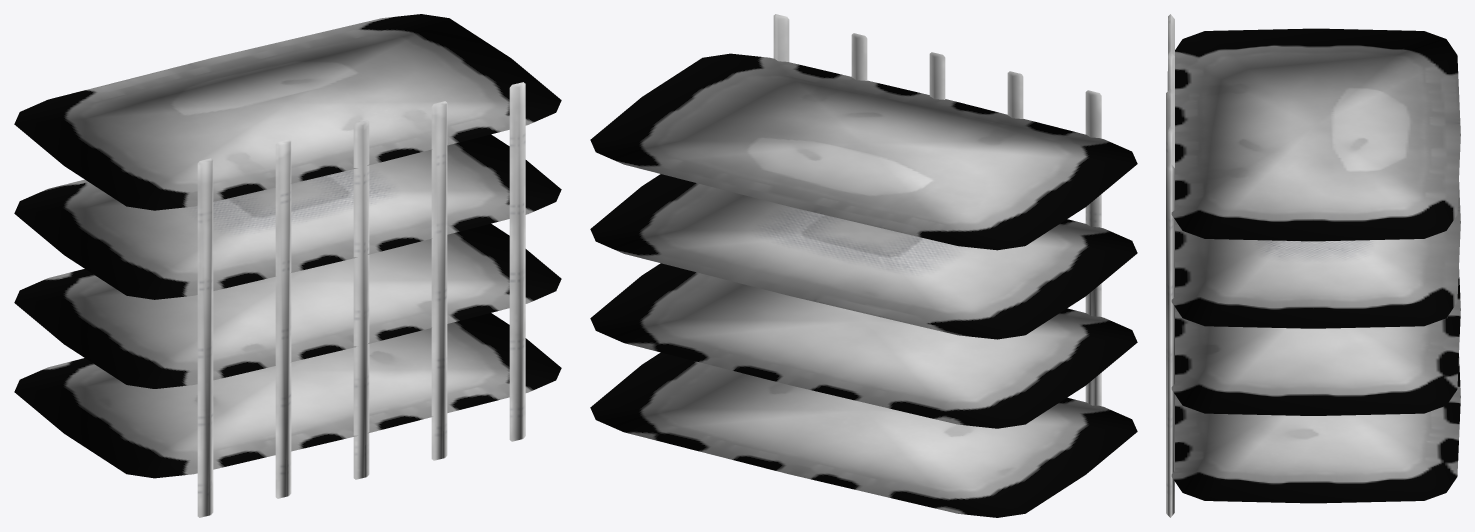
File: UpperTorso_C2.fbx
The picture shows the model from 3 angles, left to right: view 1: azimuth 30°, elevation 25°; view 2: azimuth 150°, elevation 25°; view 3: azimuth 270°, elevation 25°; orthographic projection. The views are drawn at different scales.
Visible parts, largest first — view 1: Civ_CamisaCuadros_UpperTorso_C2; view 2: Civ_CamisaCuadros_UpperTorso_C2; view 3: Civ_CamisaCuadros_UpperTorso_C2.
Part boxes in pixels (bbox=[...]): Civ_CamisaCuadros_UpperTorso_C2: bbox=[14, 14, 561, 517]; Civ_CamisaCuadros_UpperTorso_C2: bbox=[590, 14, 1137, 517]; Civ_CamisaCuadros_UpperTorso_C2: bbox=[1166, 14, 1460, 517].
Size of the model in its own units: 2.22 by 1.7 by 1.3.
